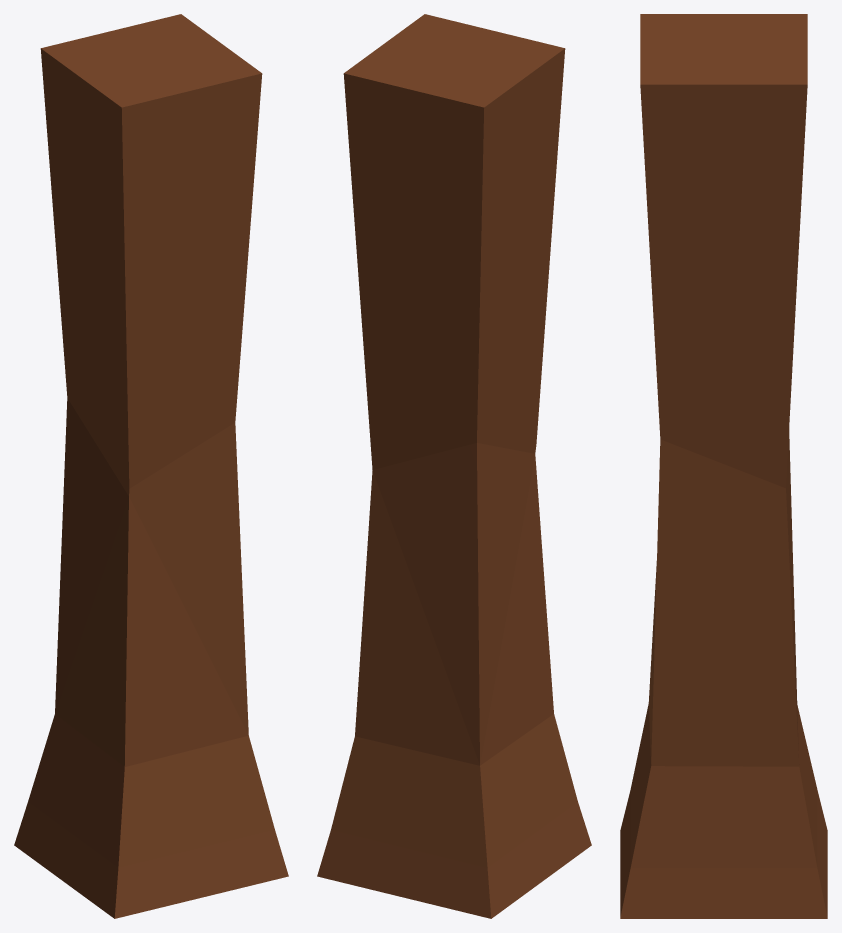
File: Wooden Pillar.fbx
3 renders of one model, left to right at view 1: azimuth 30°, elevation 25°; view 2: azimuth 150°, elevation 25°; view 3: azimuth 270°, elevation 25°, orthographic. The views are drawn at different scales.
Visible parts, largest first — view 1: Wall_07; view 2: Wall_07; view 3: Wall_07.
Part boxes in pixels (bbox=[...]): Wall_07: bbox=[14, 14, 288, 918]; Wall_07: bbox=[317, 14, 591, 918]; Wall_07: bbox=[620, 14, 827, 918].
Size of the model in its own units: 64.76 by 284 by 64.76.
